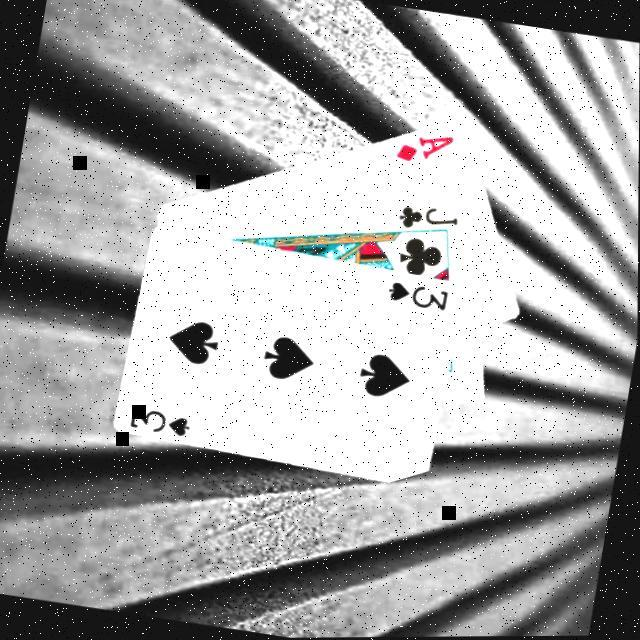3S: (386, 275, 456, 313), (128, 400, 198, 438)
AD: (394, 123, 460, 170)
JC: (396, 197, 466, 237)
